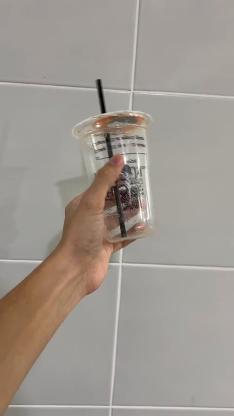Plastic Cup: (70, 108, 158, 244)
